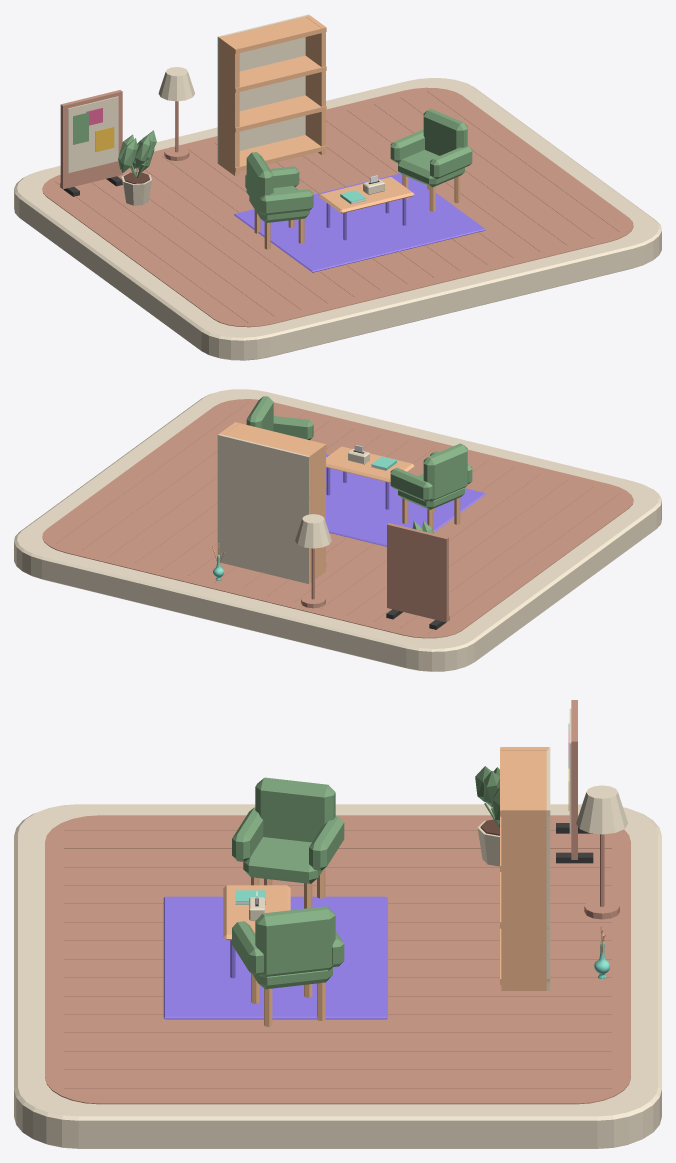
3 views of the same model, one above another, from view 1: azimuth 30°, elevation 25°; view 2: azimuth 150°, elevation 25°; view 3: azimuth 270°, elevation 25° (orthographic). The views are drawn at different scales.
Visible parts, largest first — view 1: COM-02 Floor Surface, COM-01 Rounded Base Direct, Rug, Back.002, Side, Canvas, Panel, Pot, Side.001, Shelf.003, Shelf.001, Shelf.002 (+11 smaller); view 2: COM-02 Floor Surface, COM-01 Rounded Base Direct, Back.002, Rug, Panel, Back, Shelf.003, Side, Rounded table top, Lamp shade, Arm.001, Arm.003 (+2 smaller); view 3: COM-02 Floor Surface, COM-01 Rounded Base Direct, Rug, Side.001, Back.001, Back, Shelf.003, Cushion, Lamp shade, Pot, Rounded table top, Arm.001 (+11 smaller).
Part boxes in pixels (bbox=[...]): COM-02 Floor Surface: bbox=[42, 87, 633, 327]; COM-01 Rounded Base Direct: bbox=[14, 78, 661, 360]; Rug: bbox=[234, 173, 485, 272]; Back.002: bbox=[217, 14, 309, 163]; Side: bbox=[218, 36, 239, 176]; Canvas: bbox=[68, 96, 118, 173]; Panel: bbox=[60, 90, 122, 189]; Pot: bbox=[118, 130, 156, 205]; Side.001: bbox=[305, 15, 325, 154]; Shelf.003: bbox=[219, 16, 326, 53]; Shelf.001: bbox=[219, 95, 326, 132]; Shelf.002: bbox=[219, 55, 326, 92]; COM-02 Floor Surface: bbox=[42, 399, 633, 638]; COM-01 Rounded Base Direct: bbox=[14, 389, 661, 671]; Back.002: bbox=[217, 434, 309, 583]; Rug: bbox=[326, 454, 485, 546]; Panel: bbox=[387, 523, 448, 622]; Back: bbox=[423, 443, 467, 501]; Shelf.003: bbox=[224, 422, 326, 461]; Side: bbox=[306, 443, 325, 583]; Rounded table top: bbox=[326, 446, 414, 482]; Lamp shade: bbox=[295, 514, 331, 548]; Arm.001: bbox=[390, 467, 432, 501]; Arm.003: bbox=[273, 416, 313, 440]; COM-02 Floor Surface: bbox=[45, 815, 630, 1104]; COM-01 Rounded Base Direct: bbox=[14, 804, 661, 1148]; Rug: bbox=[163, 896, 387, 1019]; Side.001: bbox=[501, 807, 548, 990]; Back.001: bbox=[255, 906, 335, 977]; Back: bbox=[255, 777, 335, 842]; Shelf.003: bbox=[500, 747, 549, 816]; Cushion: bbox=[243, 837, 322, 883]; Lamp shade: bbox=[576, 785, 628, 834]; Pot: bbox=[475, 766, 499, 866]; Rounded table top: bbox=[223, 885, 290, 940]; Arm.001: bbox=[309, 816, 344, 870].
Bounding box in the file's own units: 6 × 1.9 × 5.2.
Materials: 1 (1 with a texture image).
